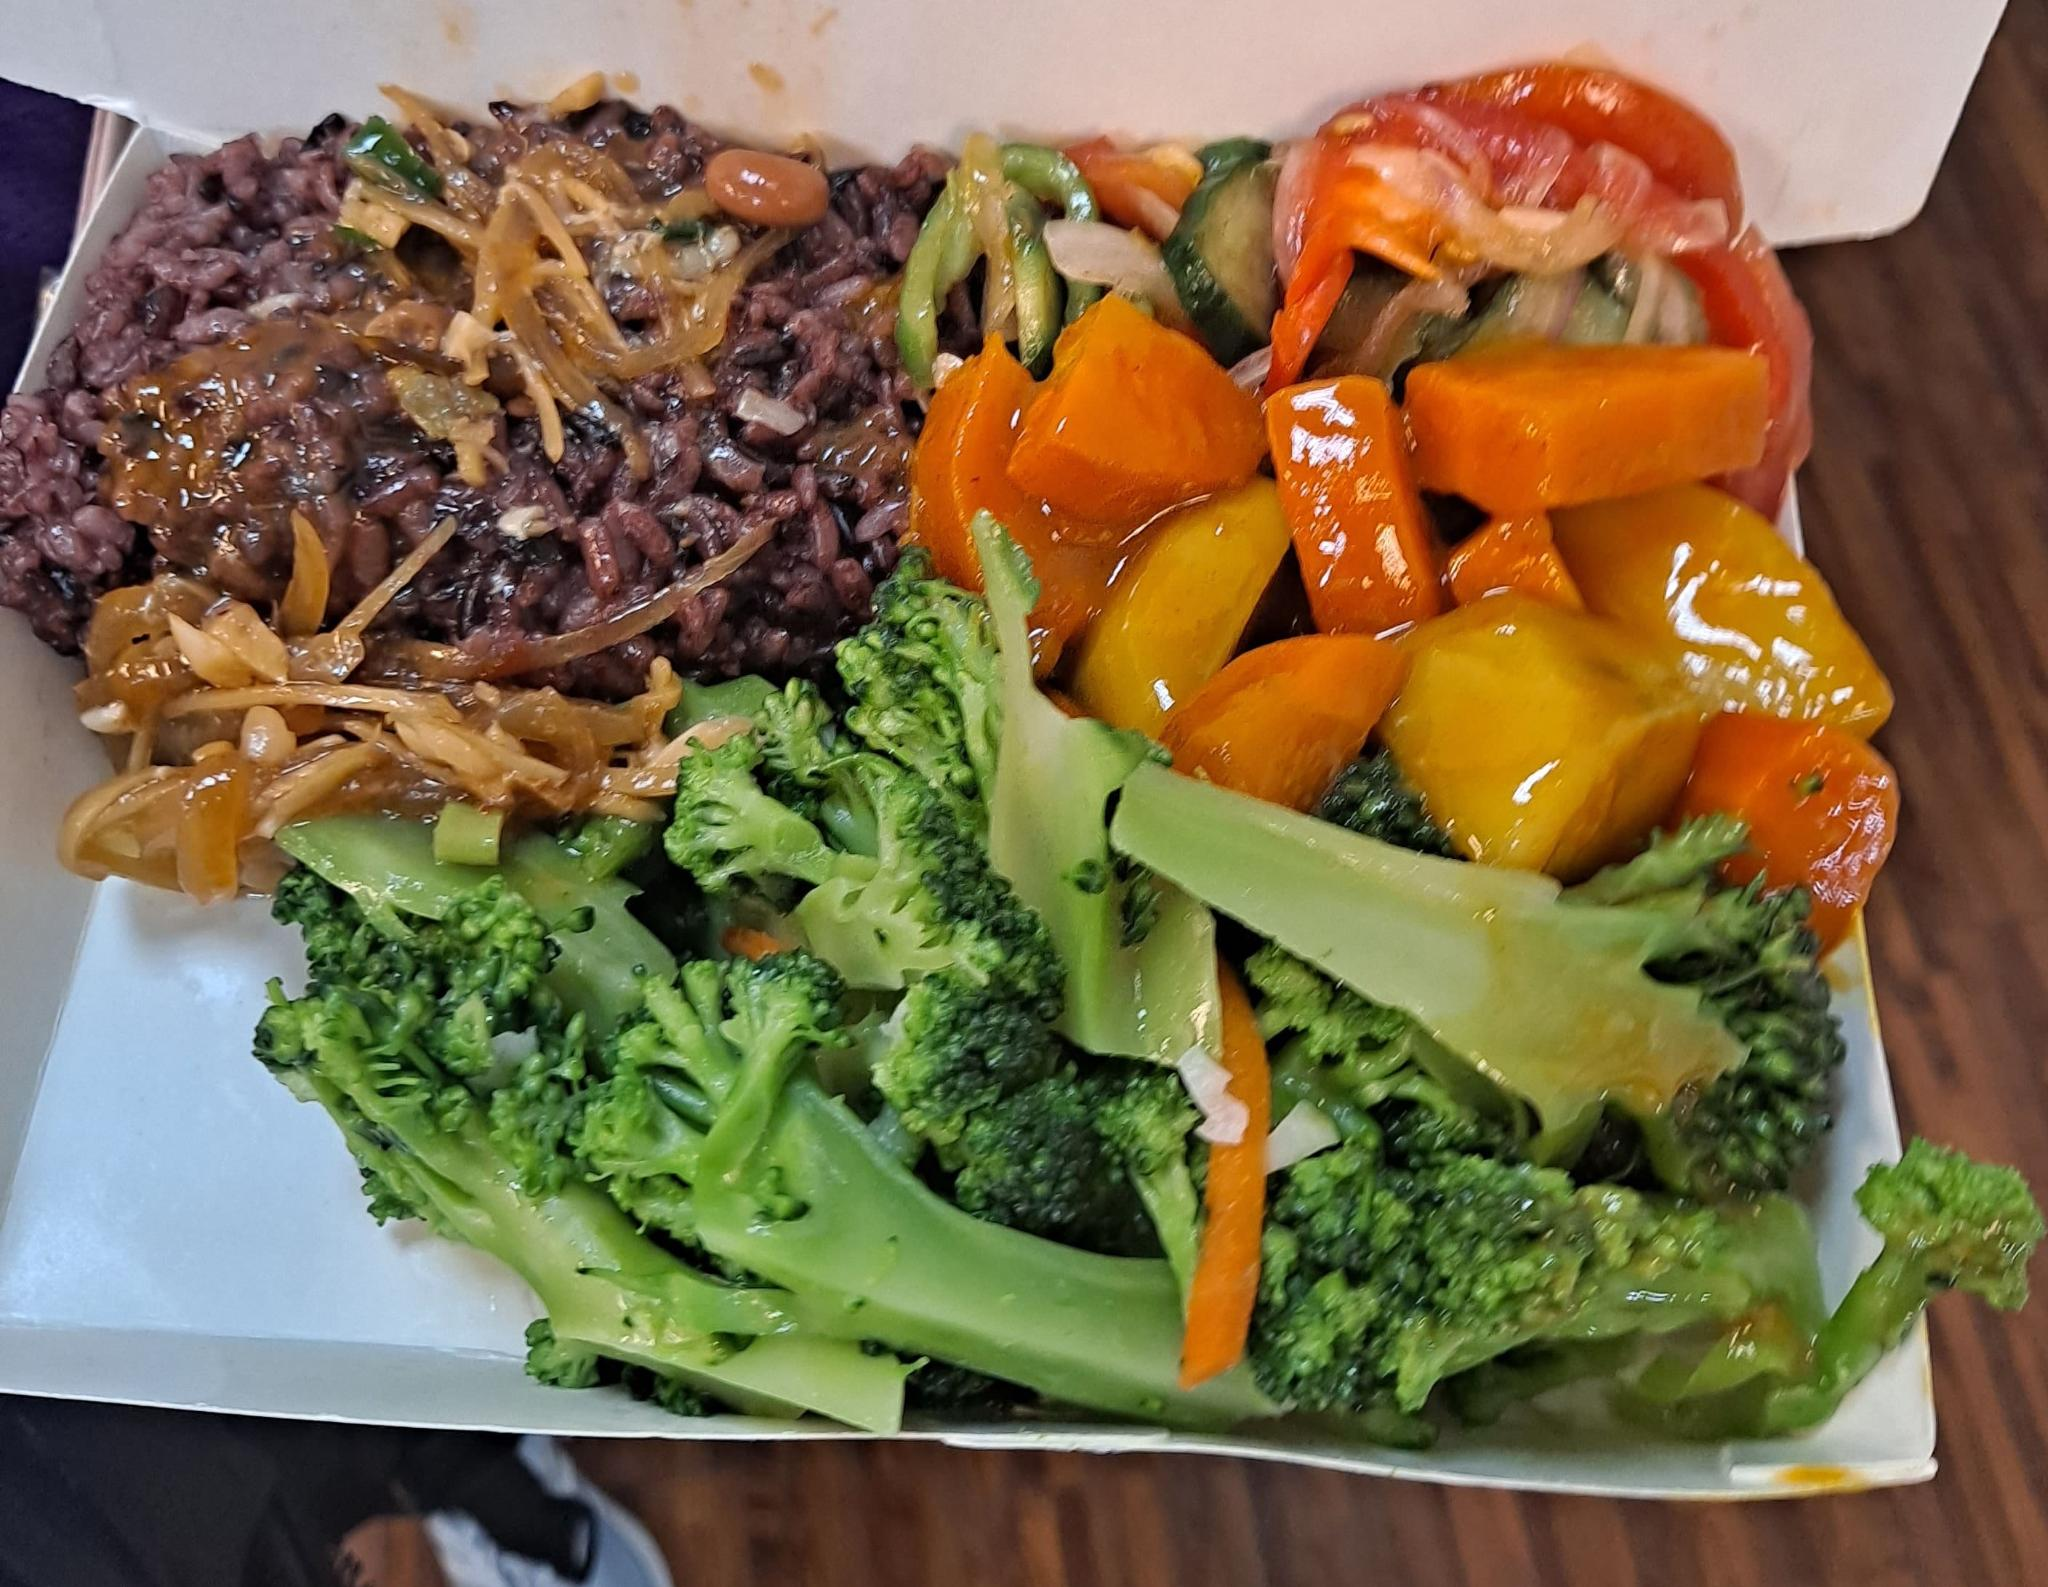big grilled chicken leg: (1, 37, 1963, 1519)
braised fish: (20, 108, 964, 720)
braised fish fillet: (262, 594, 1844, 1455), (906, 321, 1904, 935), (906, 58, 1812, 354)
